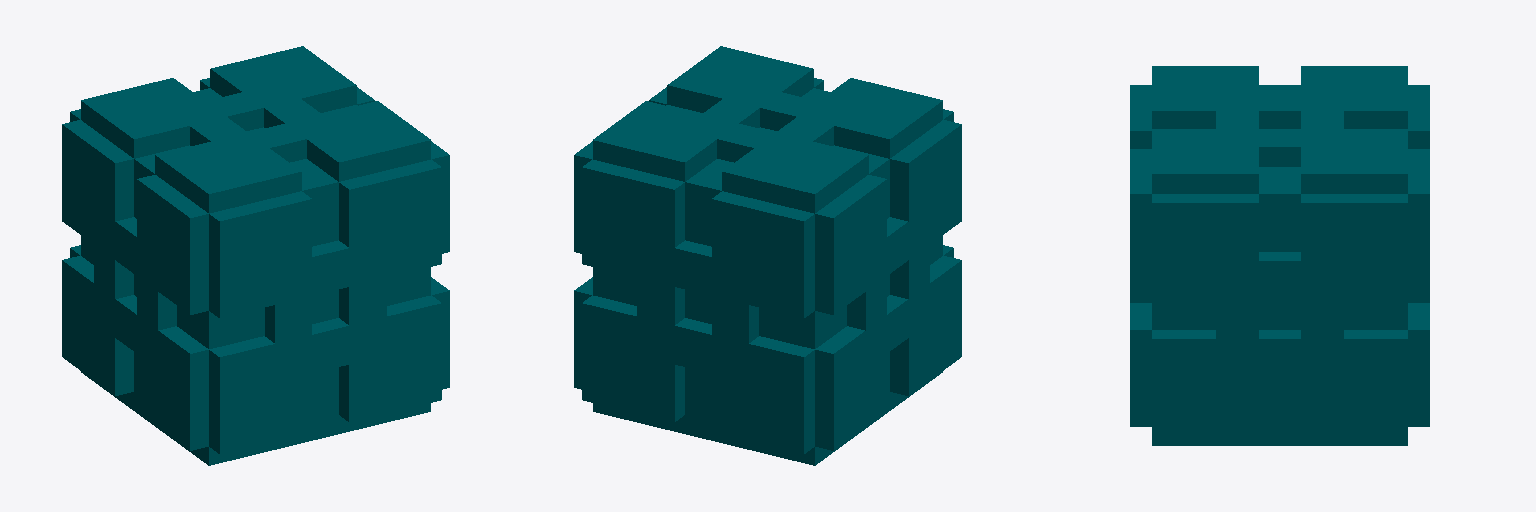
3 views of the same model, side by side, from view 1: azimuth 30°, elevation 25°; view 2: azimuth 150°, elevation 25°; view 3: azimuth 270°, elevation 25° (orthographic).
Visible parts, largest first — view 1: object 1; view 2: object 1; view 3: object 1.
Part boxes in pixels (left/top/right/bottom): object 1: left=62, top=46, right=449, bottom=465; object 1: left=574, top=46, right=961, bottom=465; object 1: left=1130, top=66, right=1429, bottom=445.
Bounding box in the file's own units: 1.4 × 1.4 × 1.4.
1 materials, 1 textured.